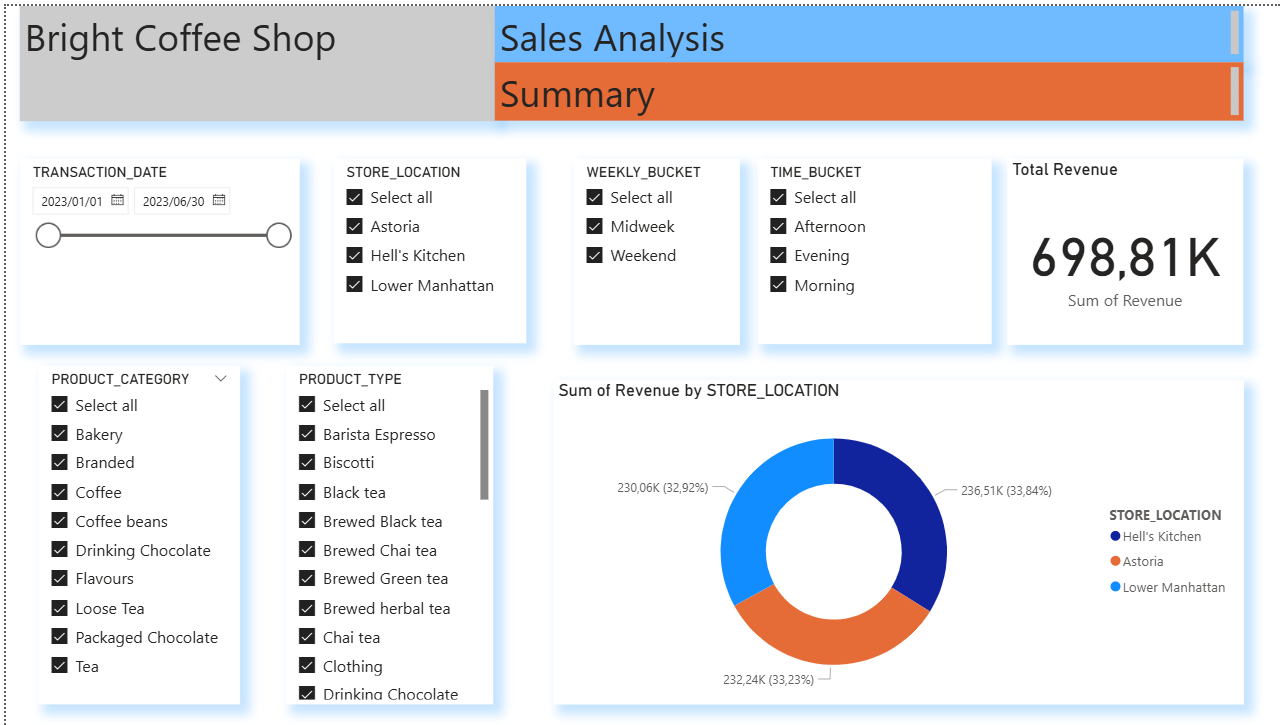

The dashboard page shown, as its layout file describes it:
{"tool":"powerbi","page":{"name":"Page 1","canvas":[1280,720],"ordinal":0},"visuals":[{"type":"slicer","fields":{"Values":["Coffee Shop Sales.TRANSACTION_DATE"]},"box":[13.8,152.5,280,186.2],"z":0},{"type":"slicer","fields":{"Values":["Coffee Shop Sales.STORE_LOCATION"]},"box":[327.5,152.5,192.5,185],"z":1000},{"type":"slicer","fields":{"Values":["Coffee Shop Sales.TIME_BUCKET"]},"box":[750.8,152.9,234.8,185.9],"z":3000},{"type":"slicer","fields":{"Values":["Coffee Shop Sales.PRODUCT_TYPE"]},"box":[280,360,207.5,338.8],"z":4000},{"type":"slicer","fields":{"Values":["Coffee Shop Sales.WEEKLY_BUCKET"]},"box":[567.5,152.5,166.2,186.2],"z":5000},{"type":"donutChart","fields":{"Y":["Sum(Coffee Shop Sales.Revenue)"],"Category":["Coffee Shop Sales.STORE_LOCATION"]},"box":[547.5,373.8,690,325],"z":7000},{"type":"card","title":"Total Revenue","fields":{"Values":["Sum(Coffee Shop Sales.Revenue)"]},"box":[1001.2,152.5,236.2,186.2],"z":8000},{"type":"textbox","box":[13.8,0,475,115],"z":9000},{"type":"textbox","box":[488.8,0,748.8,56.2],"z":10000},{"type":"slicer","fields":{"Values":["Coffee Shop Sales.PRODUCT_CATEGORY"]},"box":[32.5,360,201.2,338.8],"z":10001},{"type":"textbox","box":[488.8,56.2,748.8,58.8],"z":10002}]}

Visuals, with their boxes in screenshot pixels (x1, y1, x2, y2), scaled from the page's 1280x720 canvas onto the 1282x725 screenshot:
slicer - Coffee Shop Sales.TRANSACTION_DATE: (x1=14, y1=154, x2=294, y2=341)
slicer - Coffee Shop Sales.STORE_LOCATION: (x1=328, y1=154, x2=521, y2=340)
slicer - Coffee Shop Sales.TIME_BUCKET: (x1=752, y1=154, x2=987, y2=341)
slicer - Coffee Shop Sales.PRODUCT_TYPE: (x1=280, y1=362, x2=488, y2=704)
slicer - Coffee Shop Sales.WEEKLY_BUCKET: (x1=568, y1=154, x2=735, y2=341)
donutChart - Sum(Coffee Shop Sales.Revenue) x Coffee Shop Sales.STORE_LOCATION: (x1=548, y1=376, x2=1239, y2=704)
"Total Revenue" card: (x1=1003, y1=154, x2=1239, y2=341)
textbox: (x1=14, y1=0, x2=490, y2=116)
textbox: (x1=490, y1=0, x2=1240, y2=57)
slicer - Coffee Shop Sales.PRODUCT_CATEGORY: (x1=33, y1=362, x2=234, y2=704)
textbox: (x1=490, y1=57, x2=1240, y2=116)
